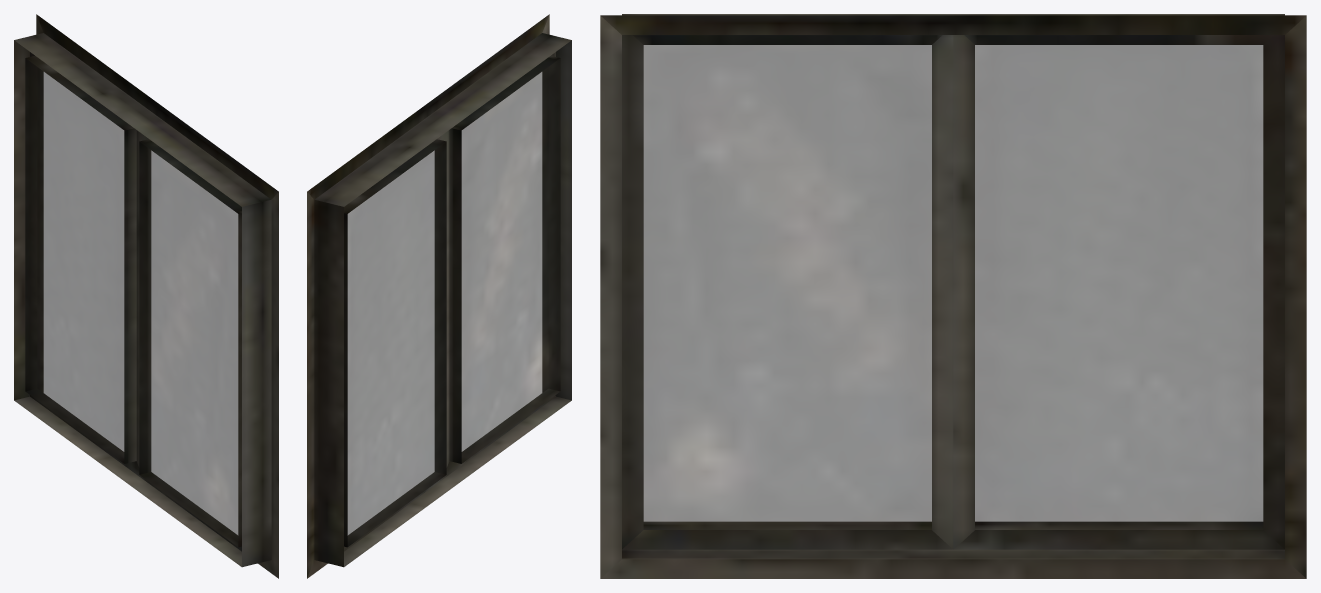
The model's file is DoubleWindows.FBX.
The picture shows the model from 3 angles, left to right: view 1: azimuth 30°, elevation 25°; view 2: azimuth 150°, elevation 25°; view 3: azimuth 270°, elevation 25°; orthographic projection. The views are drawn at different scales.
Visible parts, largest first — view 1: DoubleWindows; view 2: DoubleWindows; view 3: DoubleWindows.
Part boxes in pixels (box(x1,y1,x2,y2)): DoubleWindows: box(14, 14, 278, 578); DoubleWindows: box(307, 14, 571, 578); DoubleWindows: box(600, 14, 1306, 578).
Size of the model in its own units: 13.82 by 172 by 196.
2 materials, 2 textured.
